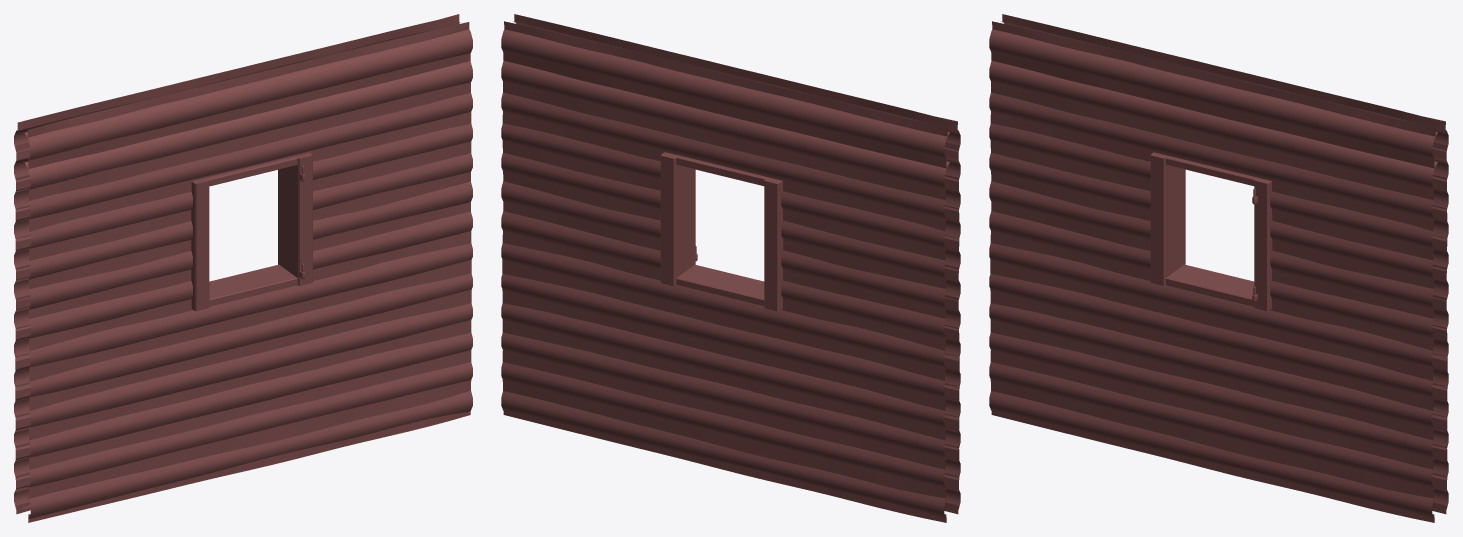
Rendered from Wall_Window.fbx.
3 renders of one model, left to right at view 1: azimuth 30°, elevation 25°; view 2: azimuth 150°, elevation 25°; view 3: azimuth 330°, elevation 25°, orthographic.
Visible parts, largest first — view 1: Wall_Window003; view 2: Wall_Window003; view 3: Wall_Window003.
Boxes of the visible parts, box(x1,y1,x2,y2) form: Wall_Window003: box(14, 14, 472, 522); Wall_Window003: box(501, 14, 960, 522); Wall_Window003: box(989, 14, 1448, 522).
Bounding box in the file's own units: 300 × 255 × 28.55.
